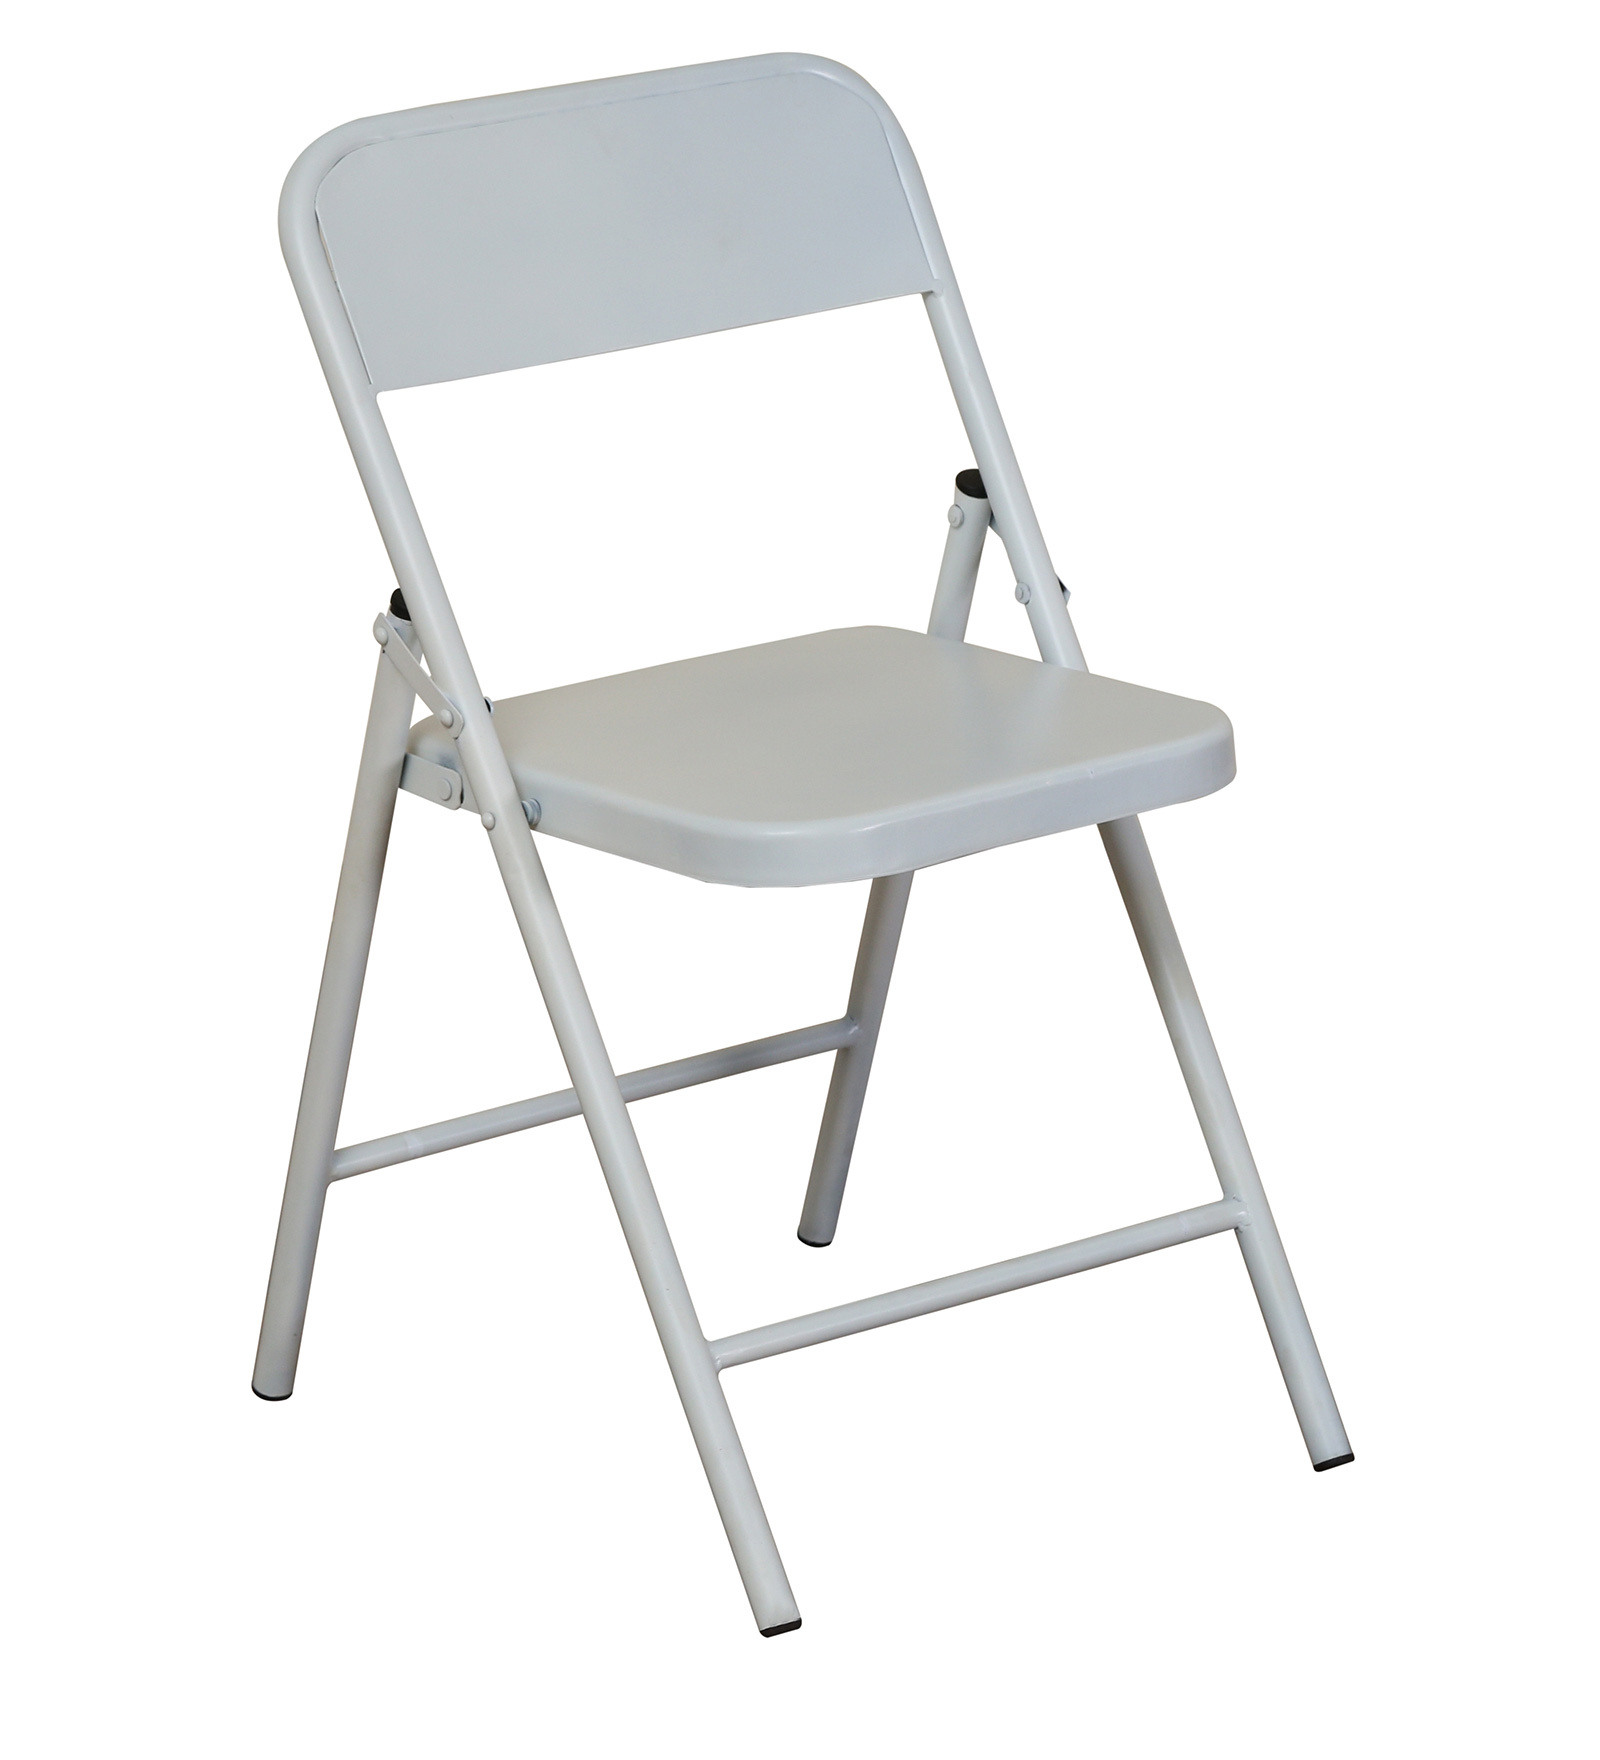Kell Folding Chair (Set of 2) in White Color by Bohemiana: (205, 26, 1479, 1631)
